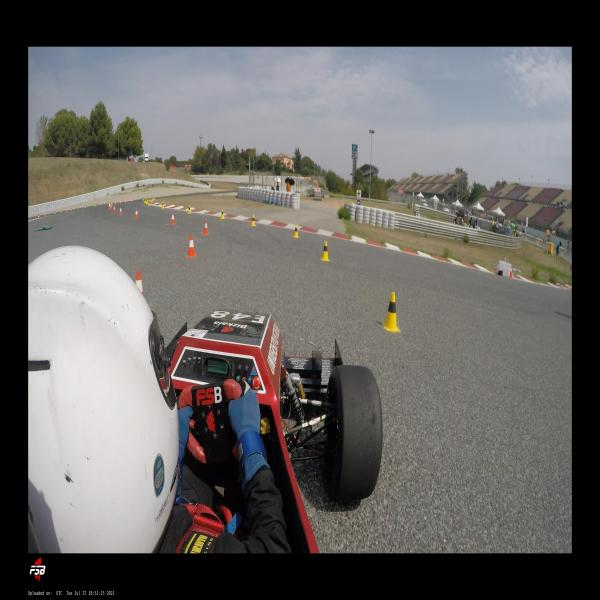orange_cone: (186, 234, 197, 258), (135, 270, 144, 296), (202, 220, 210, 235), (134, 208, 140, 220), (170, 213, 176, 225), (508, 268, 512, 280), (119, 206, 123, 216), (113, 205, 116, 213), (109, 204, 112, 210), (114, 201, 117, 206), (125, 199, 127, 204), (45, 212, 47, 217), (120, 200, 122, 205), (108, 203, 110, 208), (66, 208, 68, 213), (111, 202, 113, 206)
yellow_cone: (381, 292, 401, 332), (320, 241, 329, 261), (292, 224, 299, 238), (250, 214, 256, 226), (220, 209, 224, 219), (188, 205, 192, 214), (161, 201, 165, 209), (148, 200, 151, 206), (144, 199, 147, 204), (37, 213, 40, 218), (45, 212, 47, 217), (60, 208, 62, 212), (54, 210, 56, 214)
